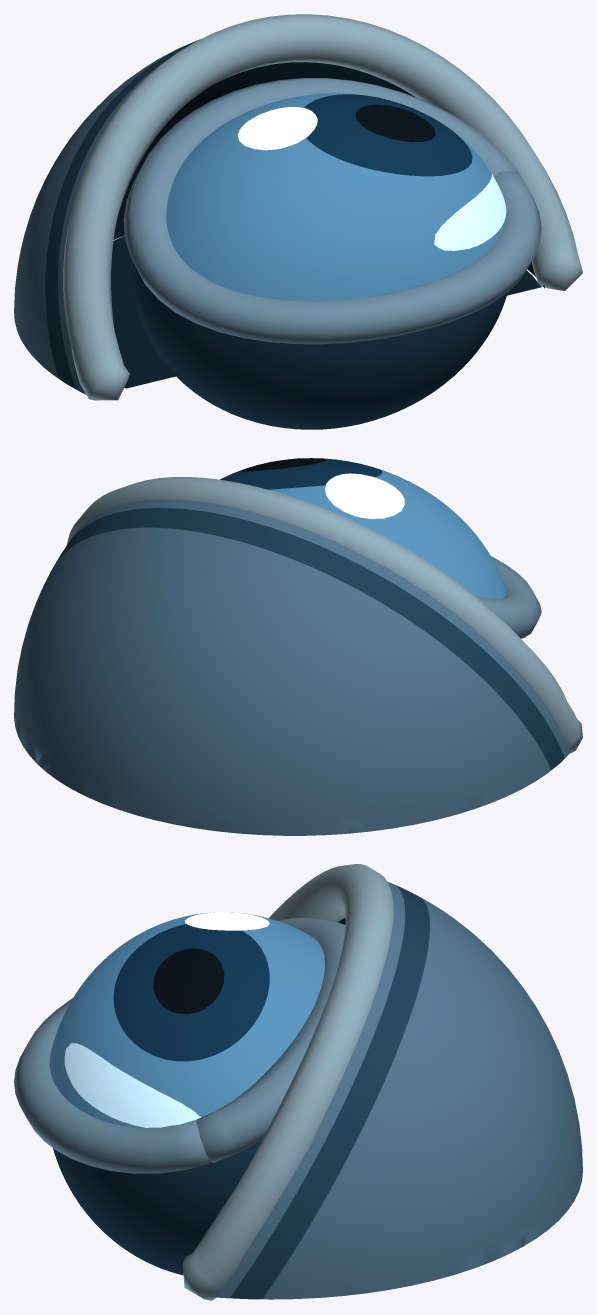
File: eye_shell_131.glb
3 views of the same model, one above another, from view 1: azimuth 30°, elevation 25°; view 2: azimuth 150°, elevation 25°; view 3: azimuth 270°, elevation 25° (orthographic). The views are drawn at different scales.
Visible parts, largest first — view 1: eye, lip, lids, hood, floor, hood_inner; view 2: hood, lip, eye, lids; view 3: hood, eye, lip, lids.
Part boxes in pixels (x1,y1,x2,y2): eye: (132, 93, 507, 429); lip: (63, 14, 582, 400); lids: (123, 78, 541, 344); hood: (14, 39, 200, 394); floor: (111, 236, 541, 388); hood_inner: (113, 62, 544, 288); hood: (14, 499, 571, 835); lip: (66, 477, 582, 753); eye: (220, 458, 506, 599); lids: (476, 556, 541, 638); hood: (210, 882, 582, 1299); eye: (49, 912, 324, 1275); lip: (182, 864, 393, 1300); lids: (14, 917, 345, 1173).
Size of the model in its own units: 14.78 by 9.63 by 13.76.
